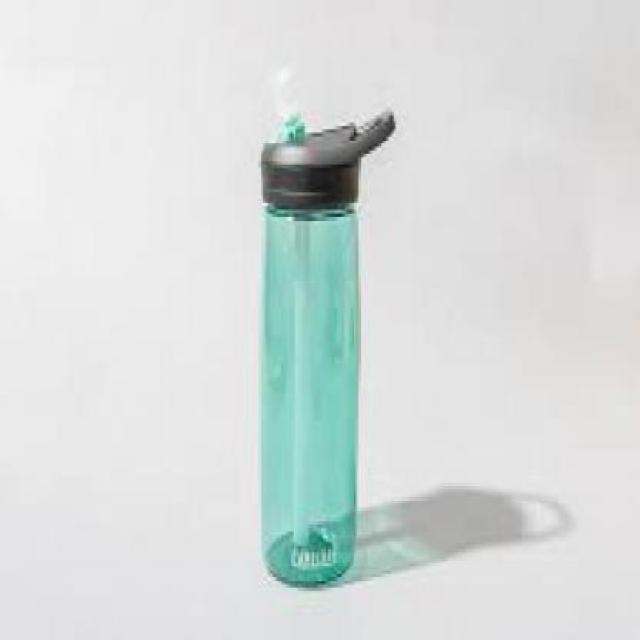Drinking: (238, 91, 384, 598)
